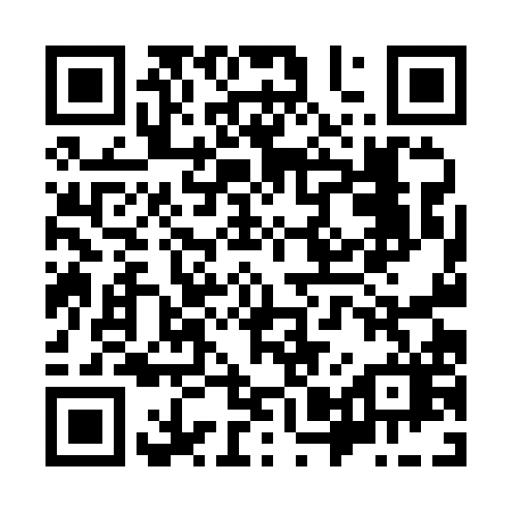QR_CODE: (38, 36, 476, 478)
